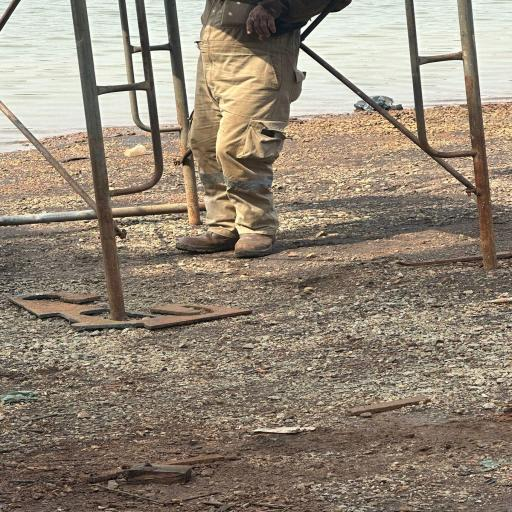safety_shoe: (179, 222, 233, 254), (232, 225, 278, 260)
